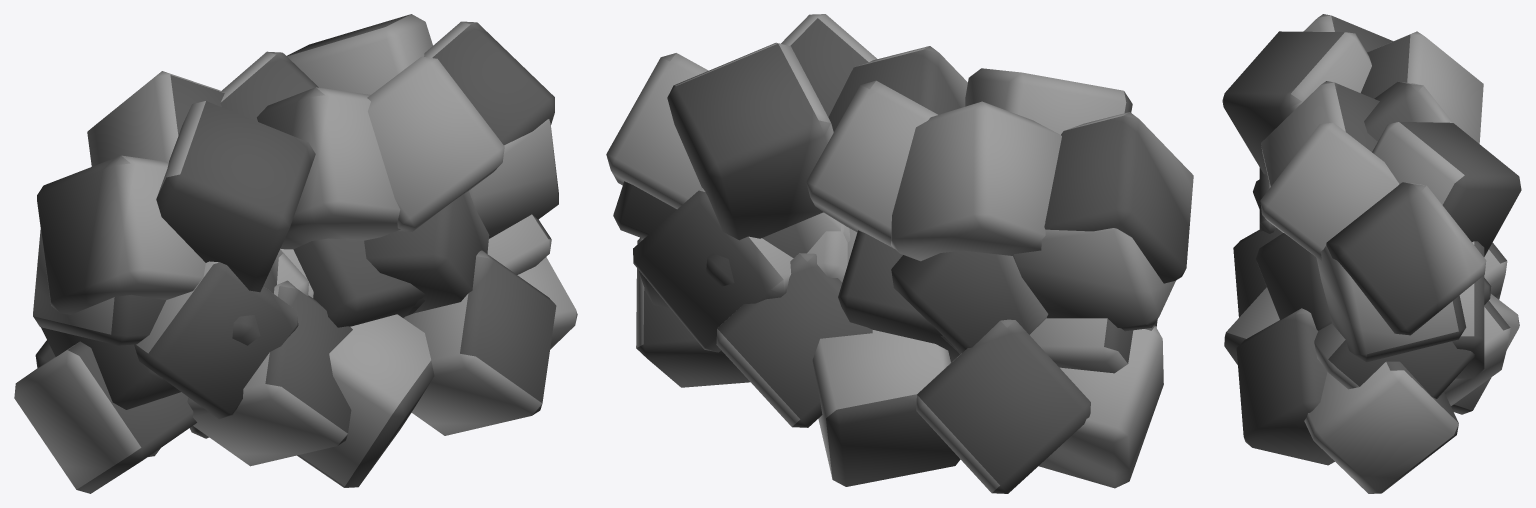
File: BombableRock.fbx
3 views of the same model, side by side, from view 1: azimuth 30°, elevation 25°; view 2: azimuth 150°, elevation 25°; view 3: azimuth 270°, elevation 25° (orthographic). The views are drawn at different scales.
Visible parts, largest first — view 1: Cube; view 2: Cube; view 3: Cube.
Boxes of the visible parts, x1,y1,x2,y2 form: Cube: (14, 14, 577, 493); Cube: (606, 14, 1193, 493); Cube: (1222, 14, 1521, 493).
Size of the model in its own units: 3.02 by 2.1 by 1.69.
